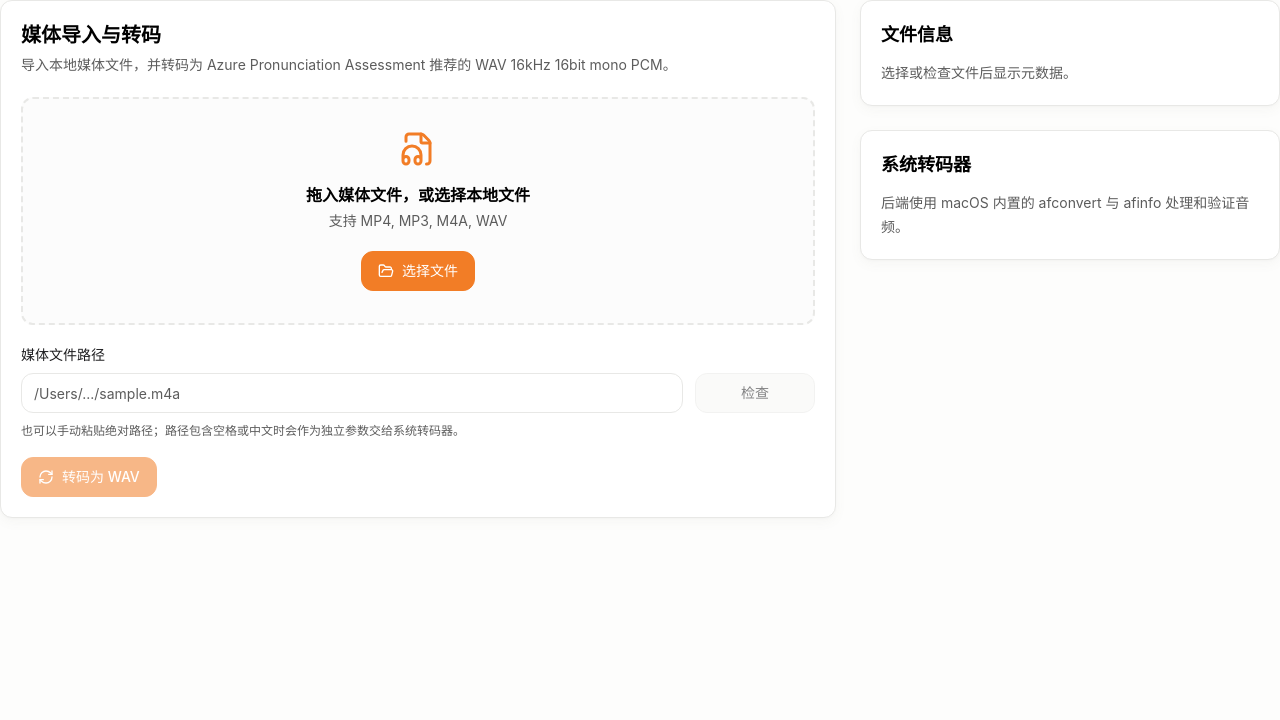
Test case: MediaPage › blocks transcode when the selected media type is unsupported
Type "/Users/test/notes.txt" into the field labelled "媒体文件路径". click: coordinates (352, 393)
box: [21,373,683,413]
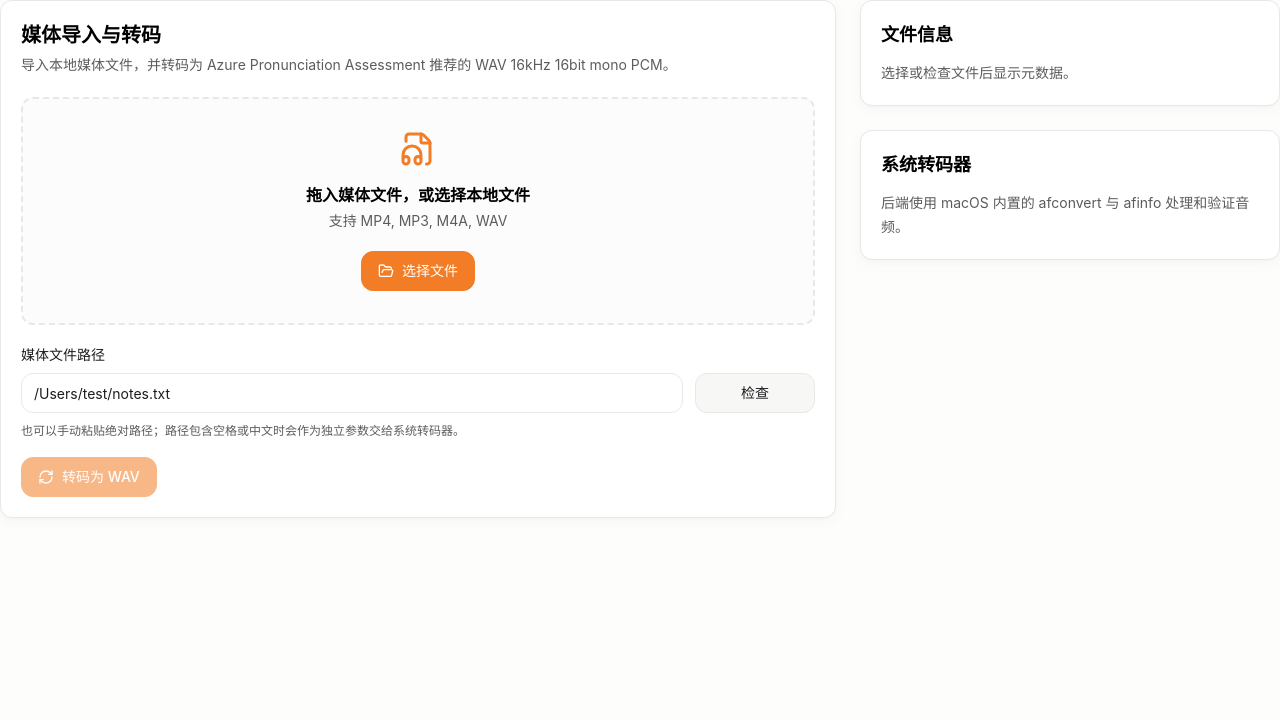
Click the button "检查". click: coordinates (755, 393)
box: [695,373,815,413]
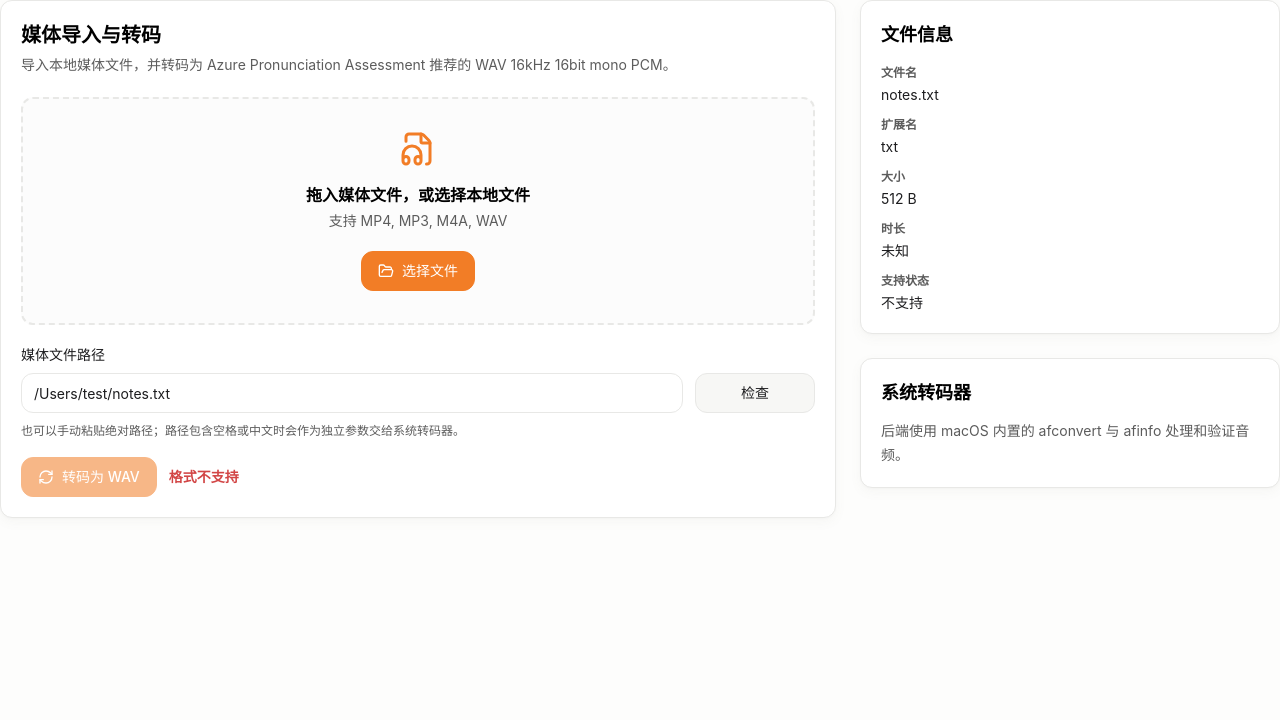
Expected: the button "转码为 WAV" is disabled, [21,457,157,497]
Expected: the text "格式不支持" is shown, [169,467,239,487]
